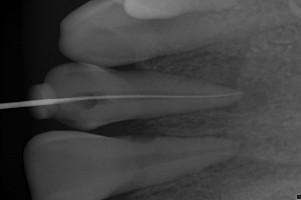Furcation Involvement: (217, 69, 270, 113), (202, 130, 247, 172)
